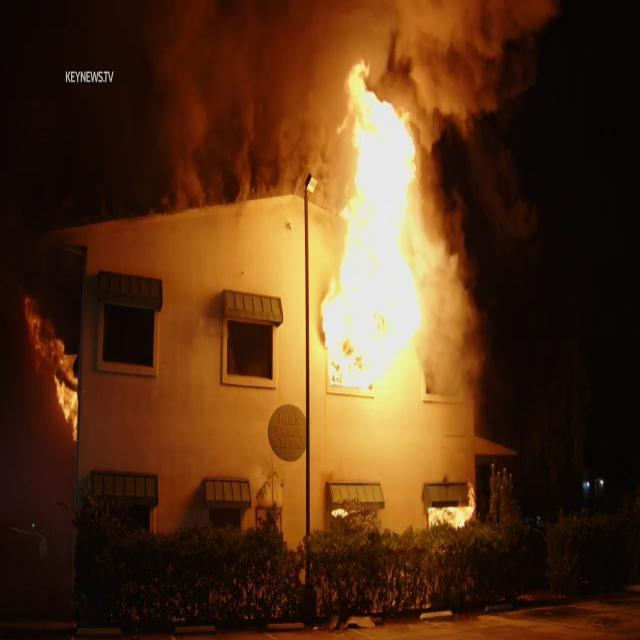Fire: (302, 54, 454, 402), (24, 300, 80, 443)
